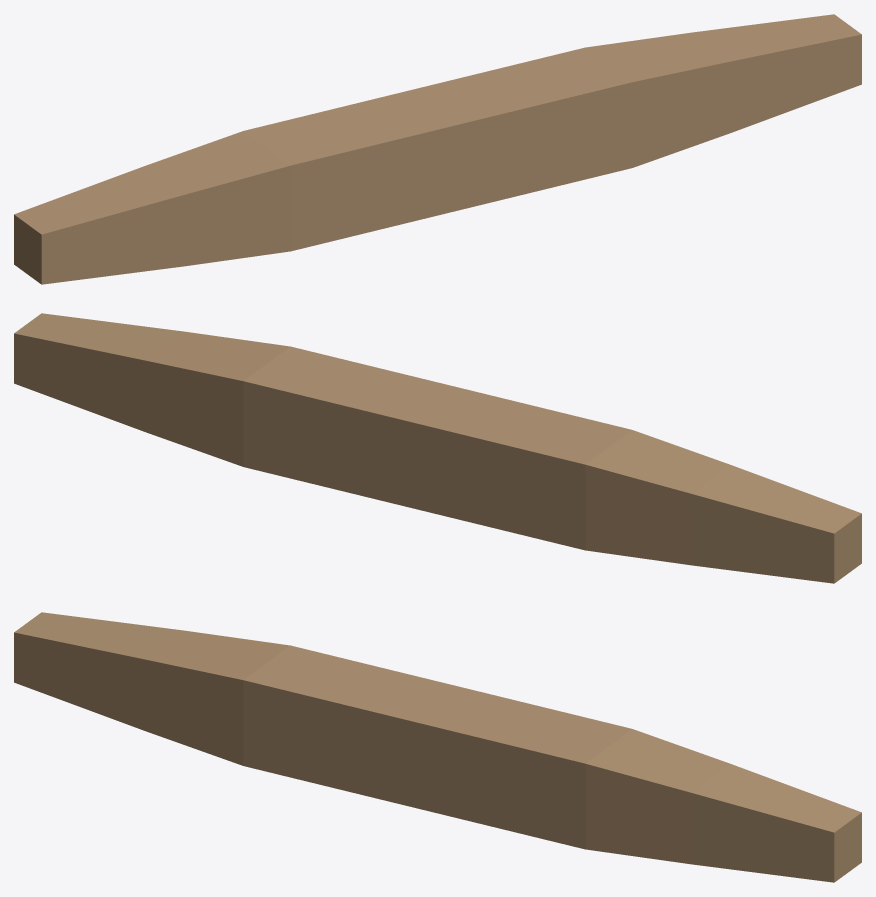
File: prop-axle-tree-blank.fbx
3 views of the same model, one above another, from view 1: azimuth 30°, elevation 25°; view 2: azimuth 150°, elevation 25°; view 3: azimuth 330°, elevation 25° (orthographic).
Parts seen in each view (by area): view 1: prop-axle-tree-blank; view 2: prop-axle-tree-blank; view 3: prop-axle-tree-blank.
Boxes of the visible parts, box(x1,y1,x2,y2) form: prop-axle-tree-blank: box(14, 14, 861, 284); prop-axle-tree-blank: box(14, 313, 861, 583); prop-axle-tree-blank: box(14, 612, 861, 882).
Bounding box in the file's own units: 120 × 12 × 12.
